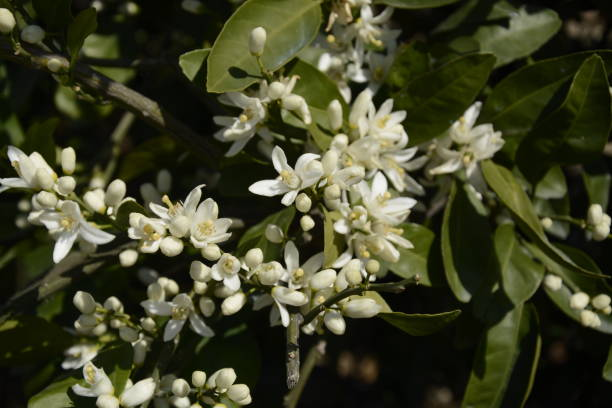flower: (22, 205, 118, 271), (251, 142, 330, 217), (212, 85, 268, 162), (131, 292, 211, 345), (353, 172, 416, 232), (259, 242, 328, 293), (0, 145, 62, 197), (357, 97, 414, 151), (445, 105, 506, 153), (73, 288, 125, 343), (183, 197, 228, 258), (348, 9, 404, 58), (123, 212, 175, 260), (267, 280, 312, 330), (65, 365, 116, 400)
